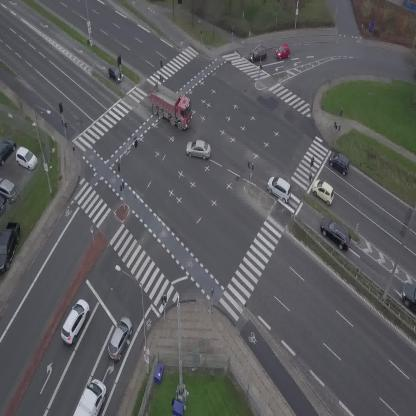car: (56, 296, 94, 347), (315, 213, 357, 252), (103, 314, 137, 362), (263, 173, 296, 204), (308, 176, 340, 206), (326, 150, 354, 176), (185, 138, 212, 160), (104, 65, 126, 86), (402, 283, 416, 313), (249, 46, 267, 61), (275, 44, 291, 60)
lorry: (142, 80, 200, 132), (73, 376, 111, 416)
